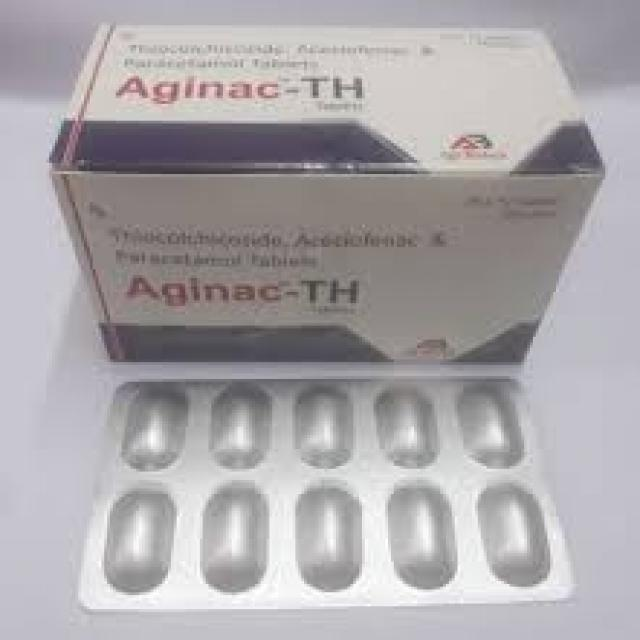authentic: (29, 5, 618, 377), (64, 364, 595, 619)
